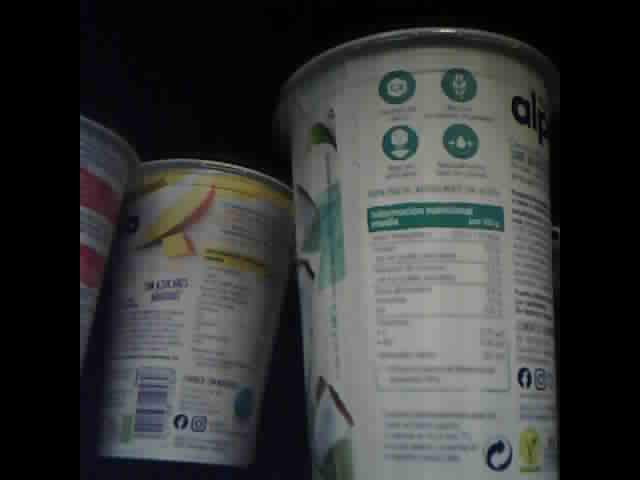alpro: (272, 26, 562, 480), (98, 156, 298, 470), (80, 112, 138, 377)
